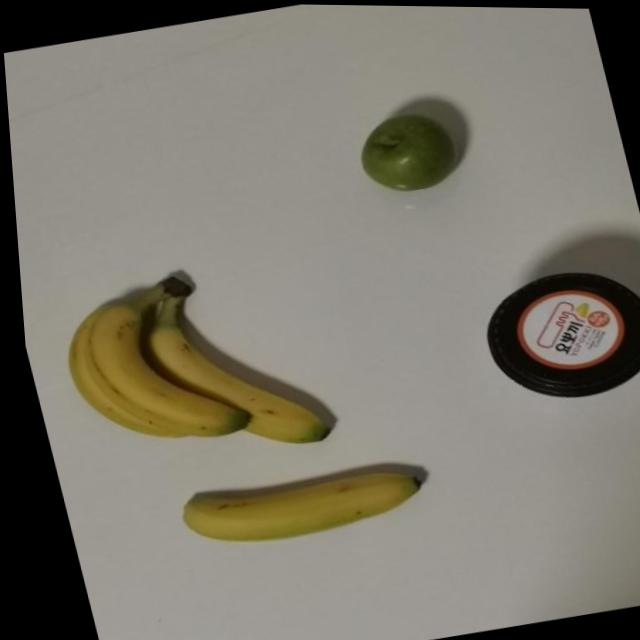Apple: (339, 101, 465, 200)
Banana: (39, 249, 331, 480), (158, 436, 452, 576)
